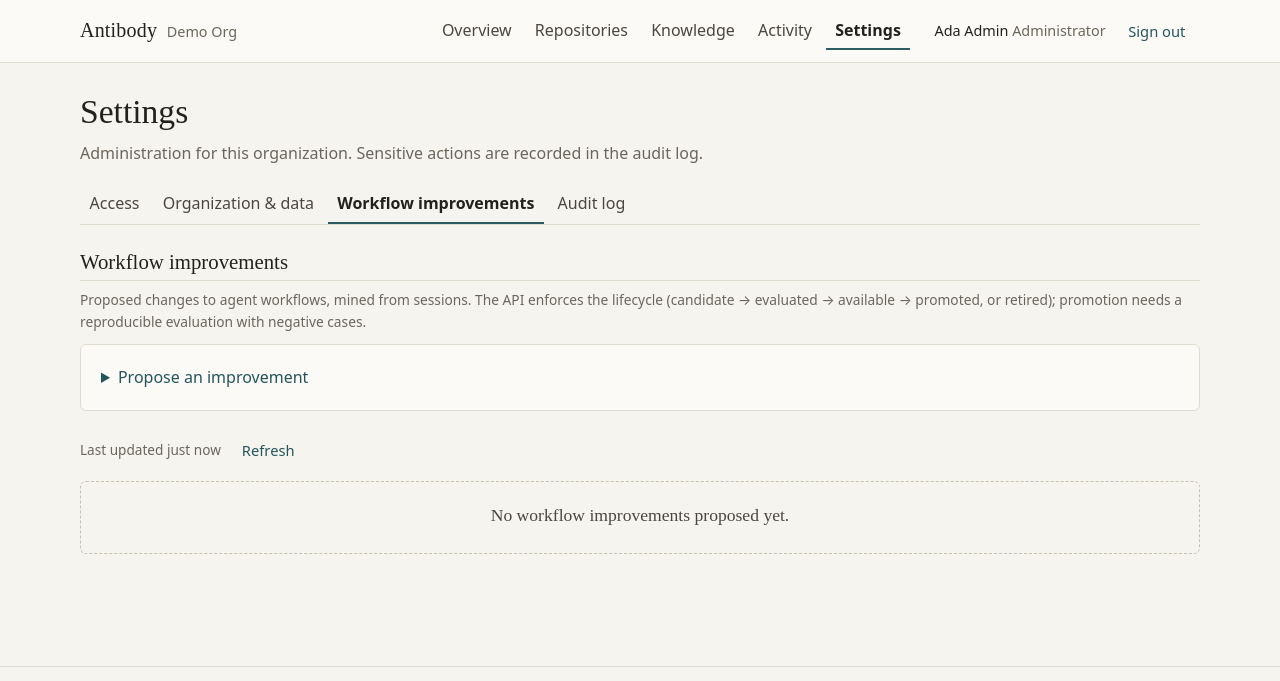
Test: workflow improvements › shows the 409 for an equivalent proposal
Click the heading "Propose an improvement": (213, 377) [118,366,308,388]
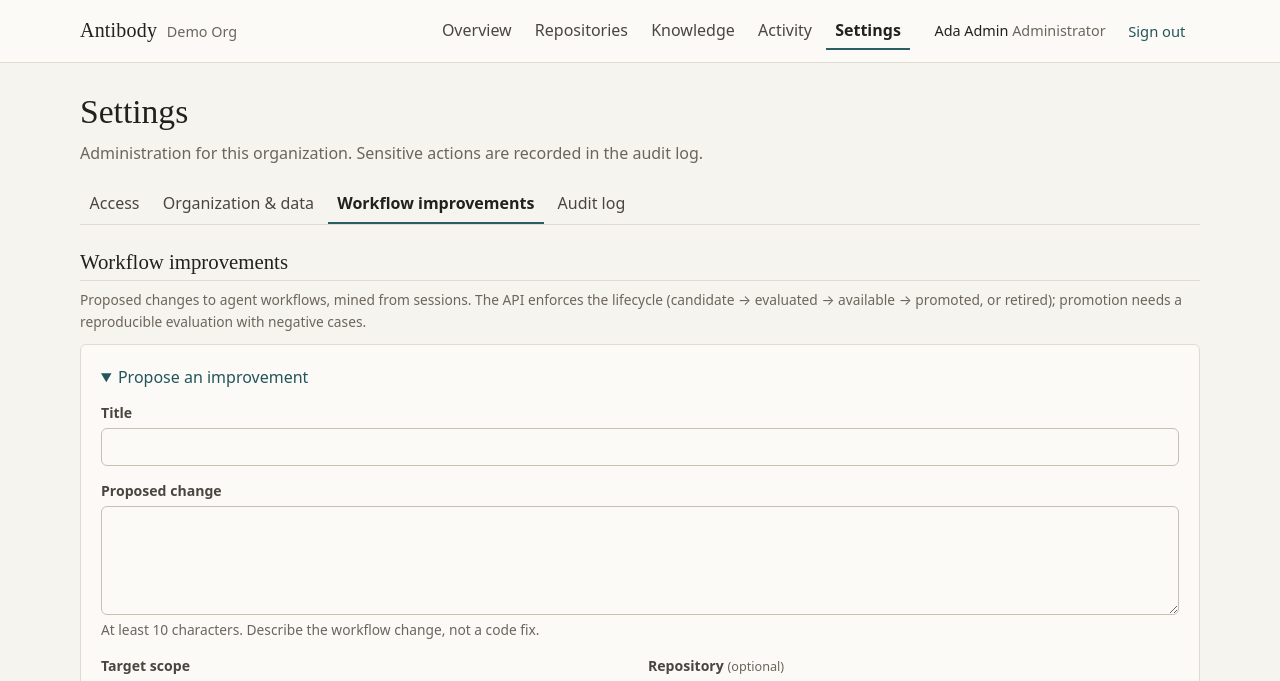
In the field labelled "Title": (640, 447) [101,428,1179,466], type "Run cargo check before tests"
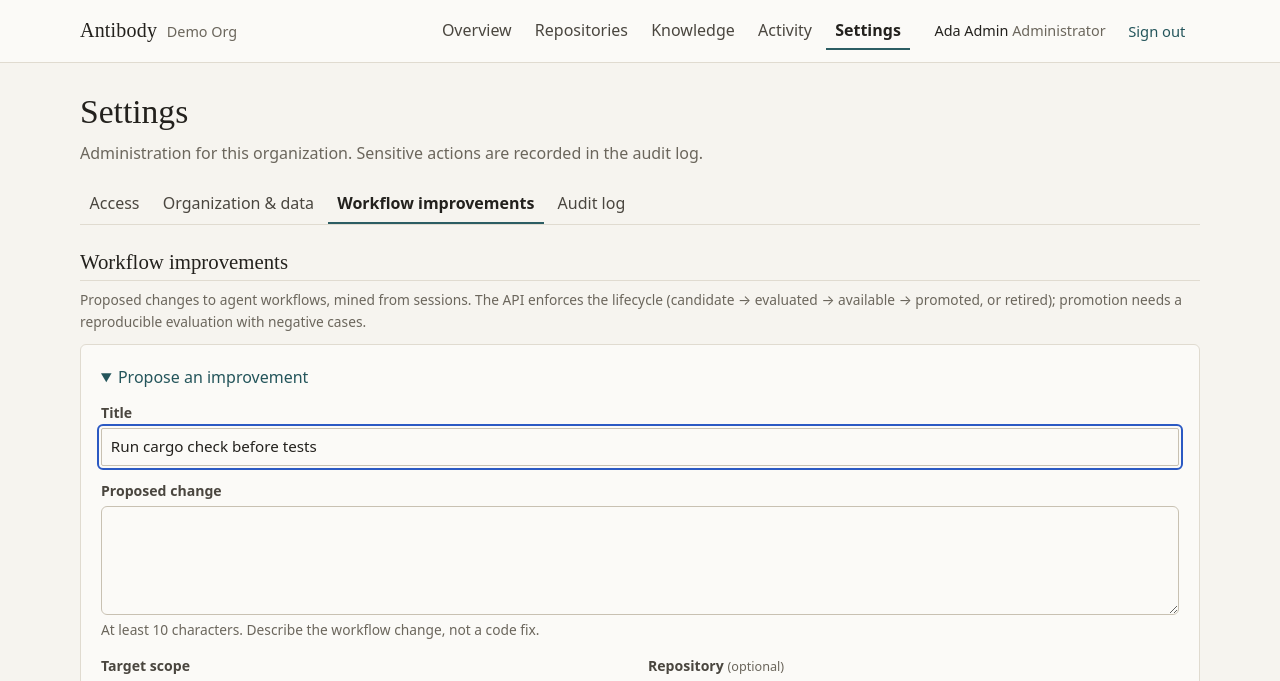
In the text box labelled "Proposed change": (640, 561) [101,506,1179,615], type "Agents should run cargo check before cargo test to fail fast."
(page scrolled)
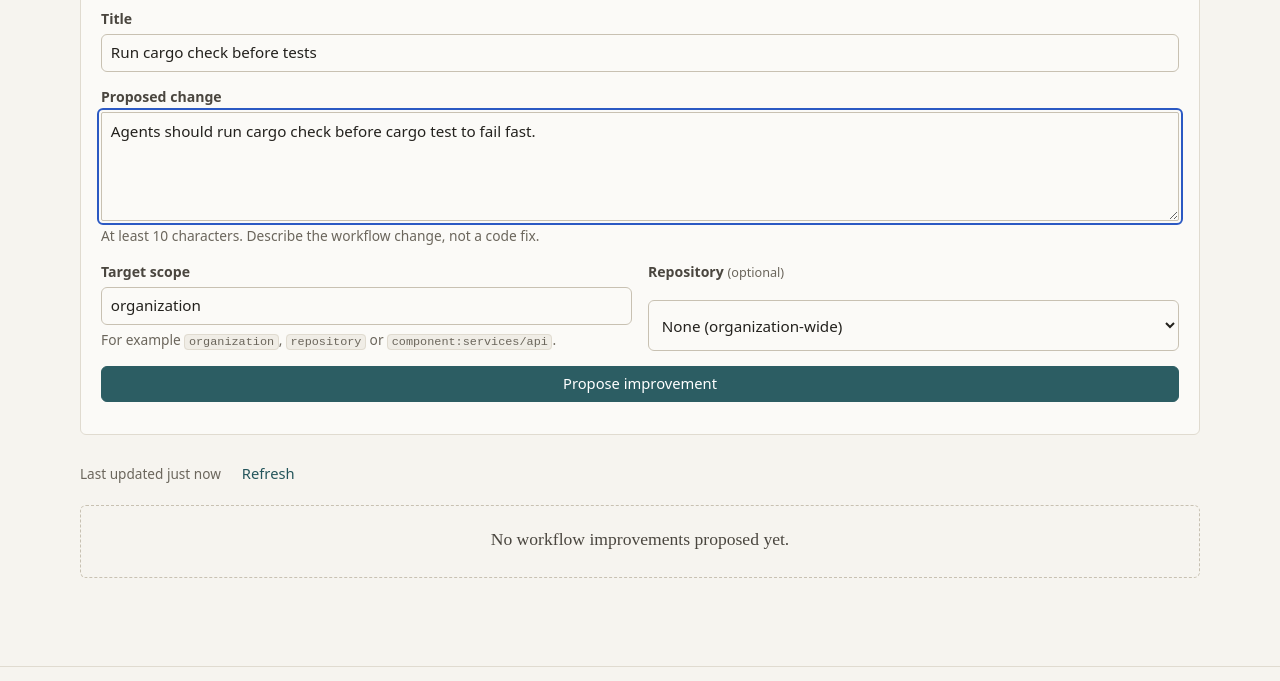
Click the button "Propose improvement": (640, 384) [101,366,1179,402]
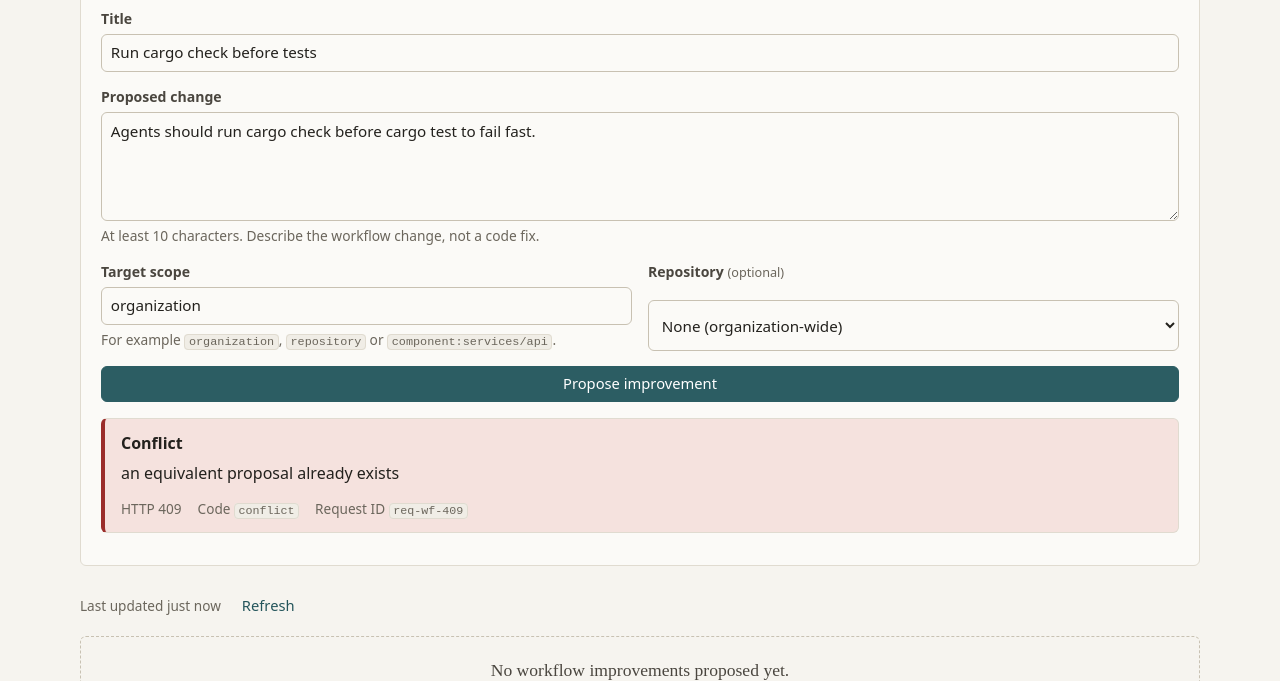
Now the message shows "Conflict", box [121,432,183,454]
Now the message shows "an equivalent proposal already exists", box [121,462,399,484]
Now the message shows "req-wf-409", box [393,504,463,518]
